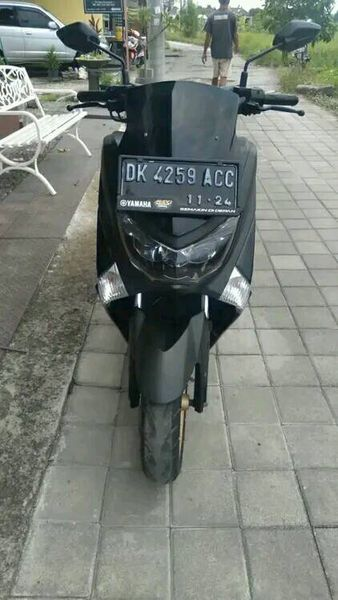plate: (117, 154, 240, 220)
